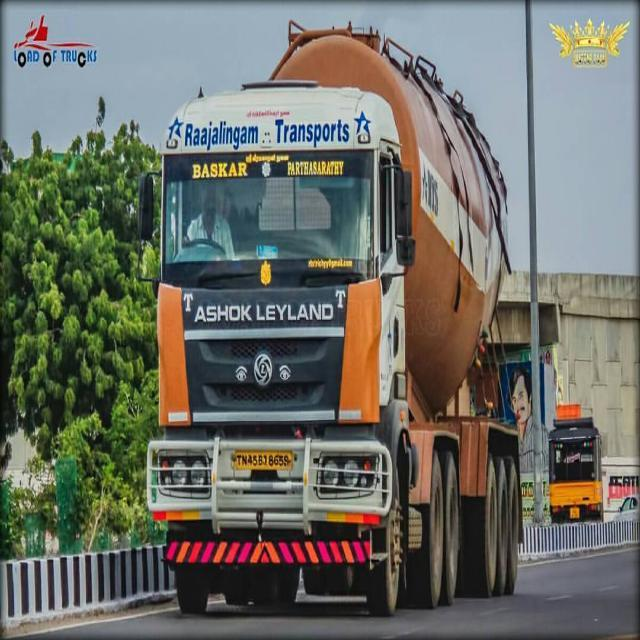Truck: (133, 20, 528, 615)
